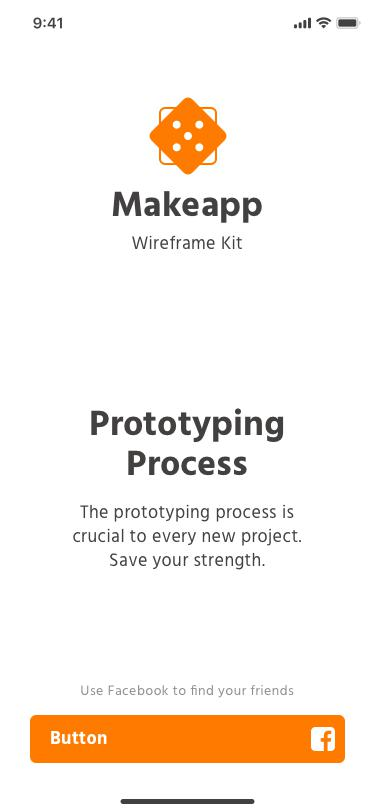Image: (149, 98, 228, 177)
Text: (72, 504, 302, 572), (90, 409, 284, 477), (112, 189, 263, 225), (80, 684, 294, 699), (131, 234, 244, 252)
TextButton: (30, 715, 346, 764)
UpperTaskBar: (34, 17, 362, 31)
